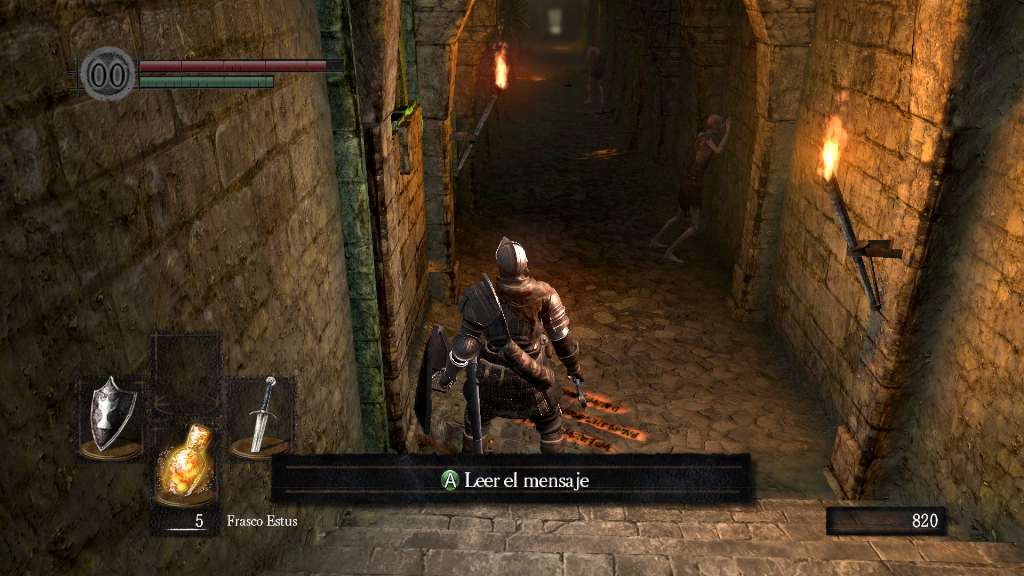dialogBox: (271, 454, 753, 504)
health: (138, 58, 343, 71)
hollow: (650, 113, 732, 267), (581, 40, 609, 106)
humanity: (80, 45, 136, 102)
player: (414, 235, 590, 461)
souls: (825, 506, 945, 536)
stamina: (138, 74, 274, 88)
